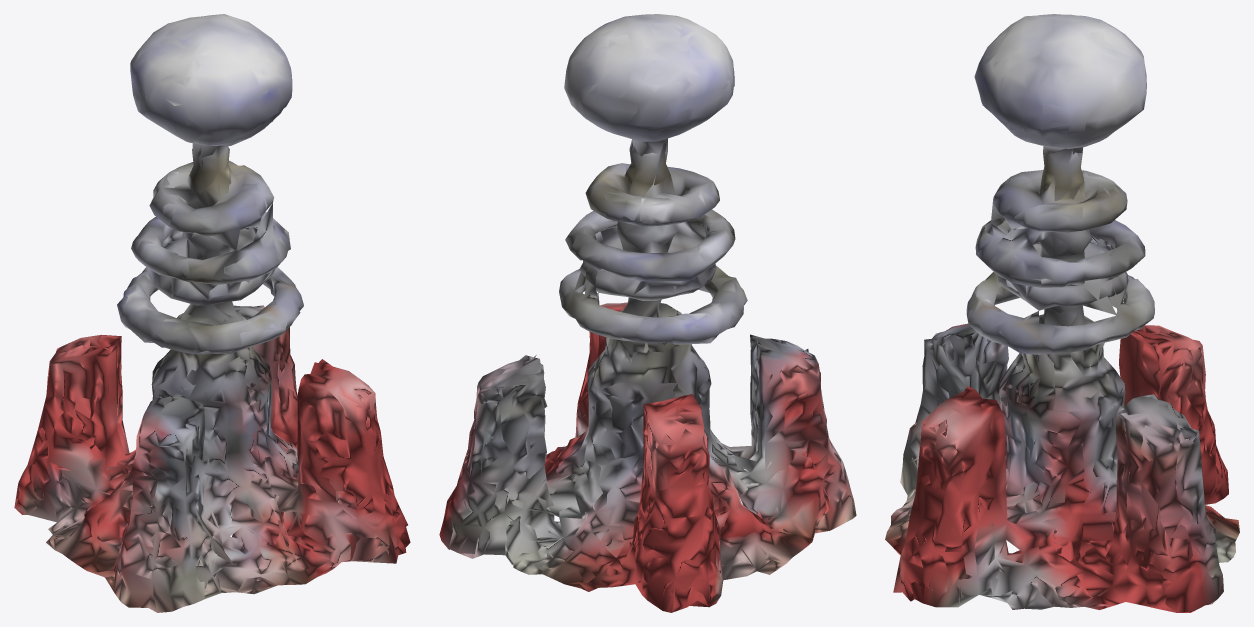
File: soviet_tesla_coil.glb
3 views of the same model, side by side, from view 1: azimuth 30°, elevation 25°; view 2: azimuth 150°, elevation 25°; view 3: azimuth 270°, elevation 25° (orthographic). The views are drawn at different scales.
Visible parts, largest first — view 1: soviet_tesla_coil; view 2: soviet_tesla_coil; view 3: soviet_tesla_coil.
Part boxes in pixels (x1,y1,x2,y2): soviet_tesla_coil: (14,14,410,612); soviet_tesla_coil: (439,14,856,612); soviet_tesla_coil: (885,14,1239,612).
Bounding box in the file's own units: 0.987 × 1.6 × 0.9927.
